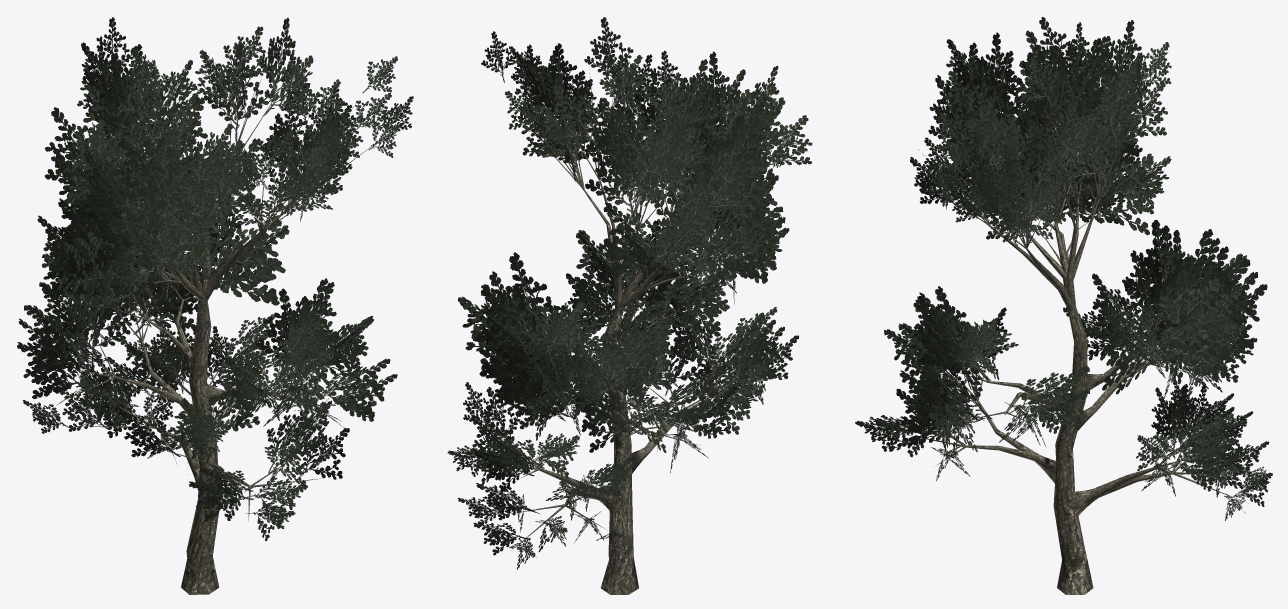
The model's file is SM_EC_Tree_Oak_02.fbx.
The picture shows the model from 3 angles, left to right: view 1: azimuth 30°, elevation 25°; view 2: azimuth 150°, elevation 25°; view 3: azimuth 270°, elevation 25°; orthographic projection. The views are drawn at different scales.
Visible parts, largest first — view 1: SM_EC_Tree_Oak_02; view 2: SM_EC_Tree_Oak_02; view 3: SM_EC_Tree_Oak_02.
Part boxes in pixels (left/top/right/bottom): SM_EC_Tree_Oak_02: left=17, top=17, right=413, bottom=594; SM_EC_Tree_Oak_02: left=447, top=17, right=812, bottom=594; SM_EC_Tree_Oak_02: left=855, top=17, right=1272, bottom=594.
Size of the model in its own units: 5.15 by 5.76 by 8.34.
